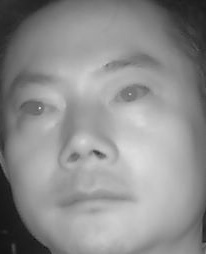eye: (16, 96, 60, 122), (113, 83, 156, 105)
mouth: (54, 180, 132, 218)
